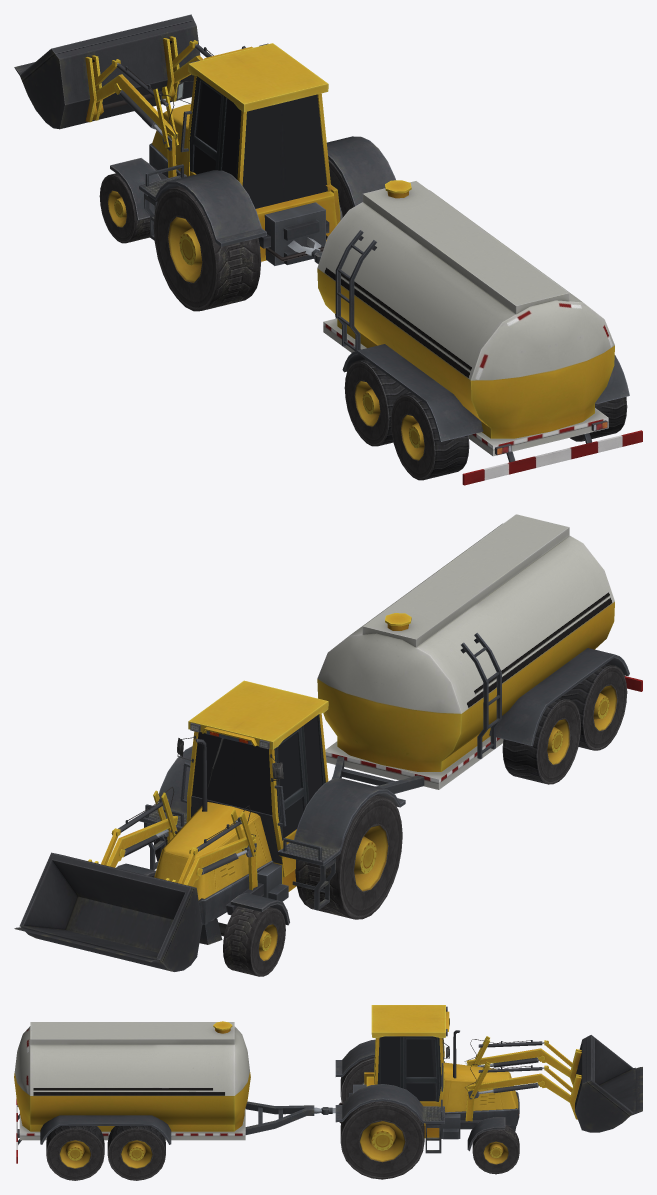
The model's file is Tractor_And_Trailer.glb.
3 views of the same model, one above another, from view 1: azimuth 30°, elevation 25°; view 2: azimuth 150°, elevation 25°; view 3: azimuth 270°, elevation 25° (orthographic). The views are drawn at different scales.
Parts seen in each view (by area): view 1: Tractor_And_Trailer__LOD3; view 2: Tractor_And_Trailer__LOD3; view 3: Tractor_And_Trailer__LOD3.
Part boxes in pixels (x1,y1,x2,y2): Tractor_And_Trailer__LOD3: (14, 14, 642, 485); Tractor_And_Trailer__LOD3: (14, 514, 642, 976); Tractor_And_Trailer__LOD3: (14, 1005, 642, 1180).
Size of the model in its own units: 3.39 by 3.32 by 14.43.
Materials: 1 (1 with a texture image).
